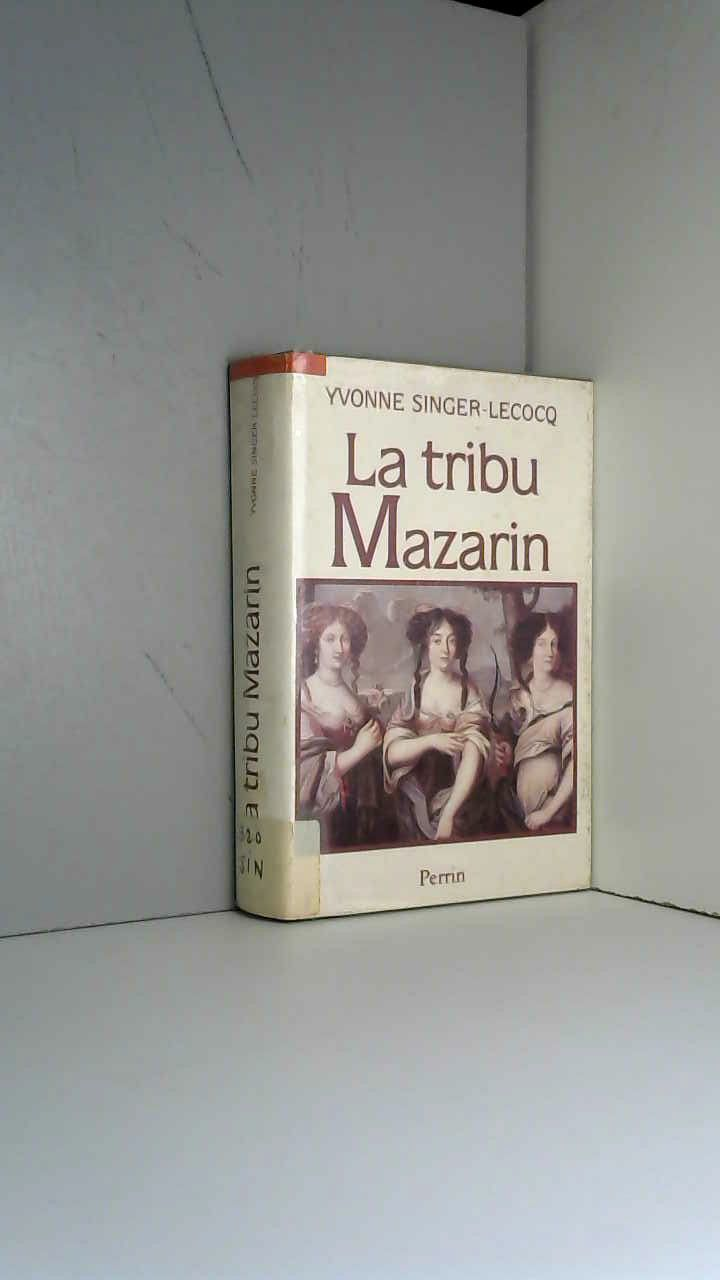book: (200, 320, 720, 935)
